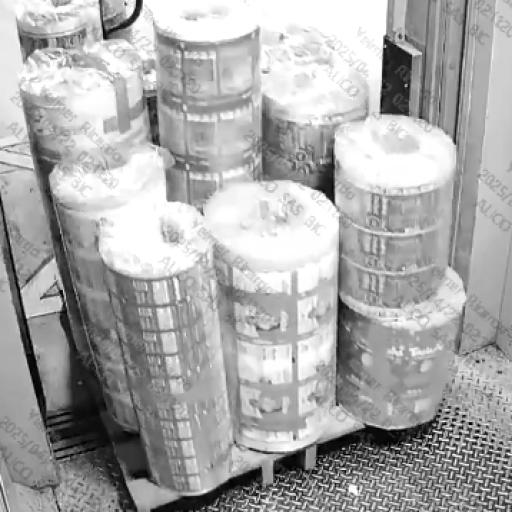Rollos sin amarrar: (60, 44, 447, 432)
